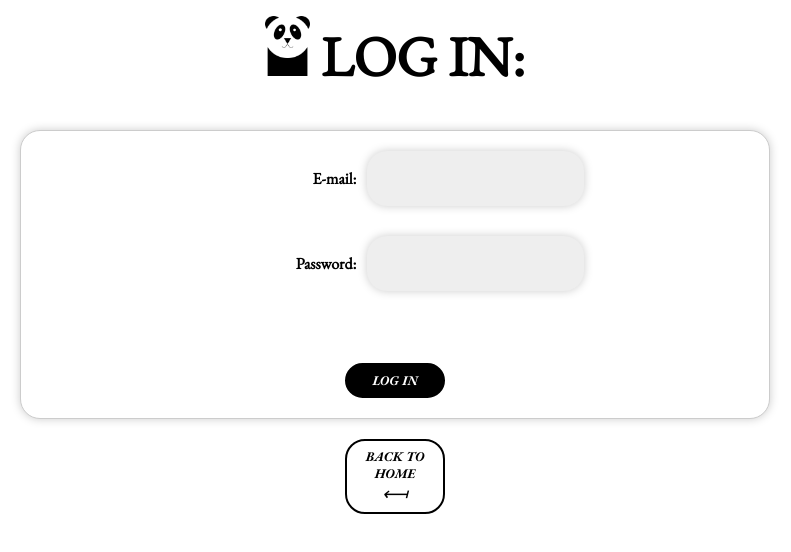
Login component › shows an error message when login is unsuccessful
Click the button "Log in": (395, 380) x1=345 y1=363 x2=445 y2=398
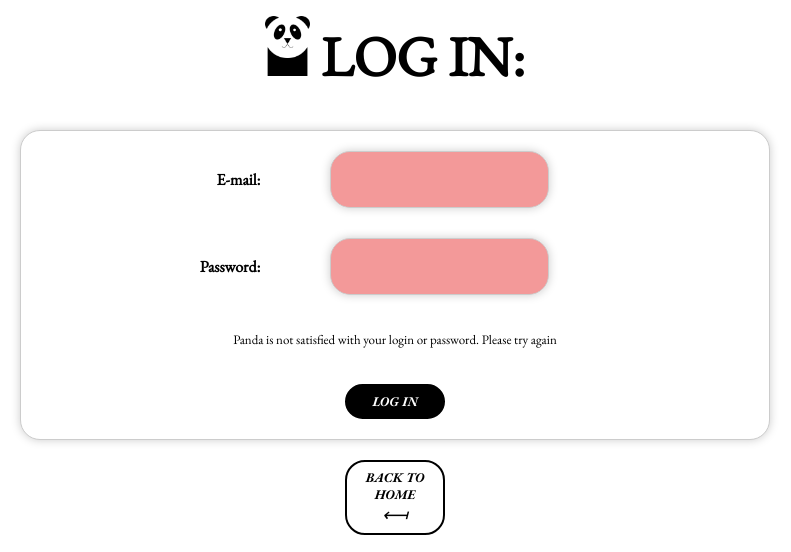
expect the text "Panda is not satisfied with your login or password. Please try again" is shown: met, box x1=213 y1=328 x2=577 y2=351
